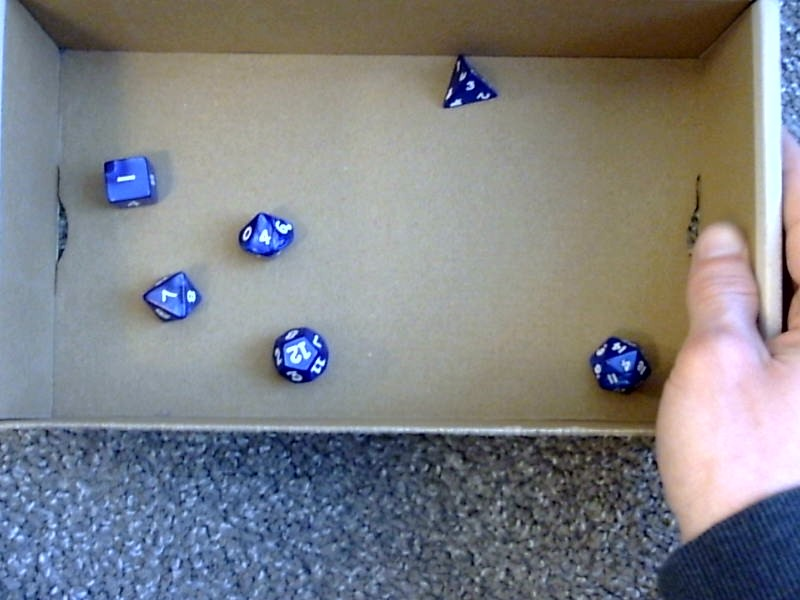d10 4: (233, 211, 296, 260)
d12 12: (271, 324, 335, 388)
d20 4: (588, 326, 658, 399)
d4 3: (440, 55, 501, 111)
d6 1: (100, 151, 159, 209)
d8 7: (140, 267, 200, 323)
